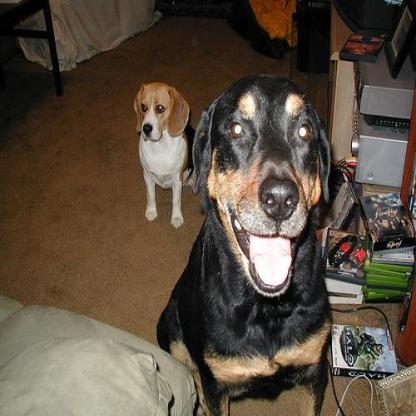Rottweiler: (153, 70, 330, 414)
